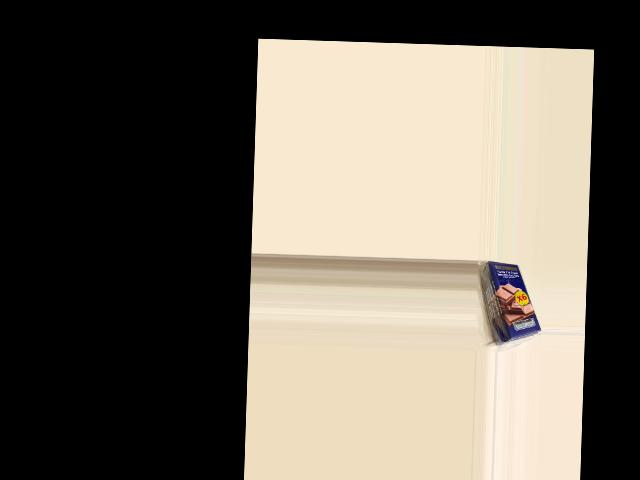chocolate: (480, 260, 544, 341)
